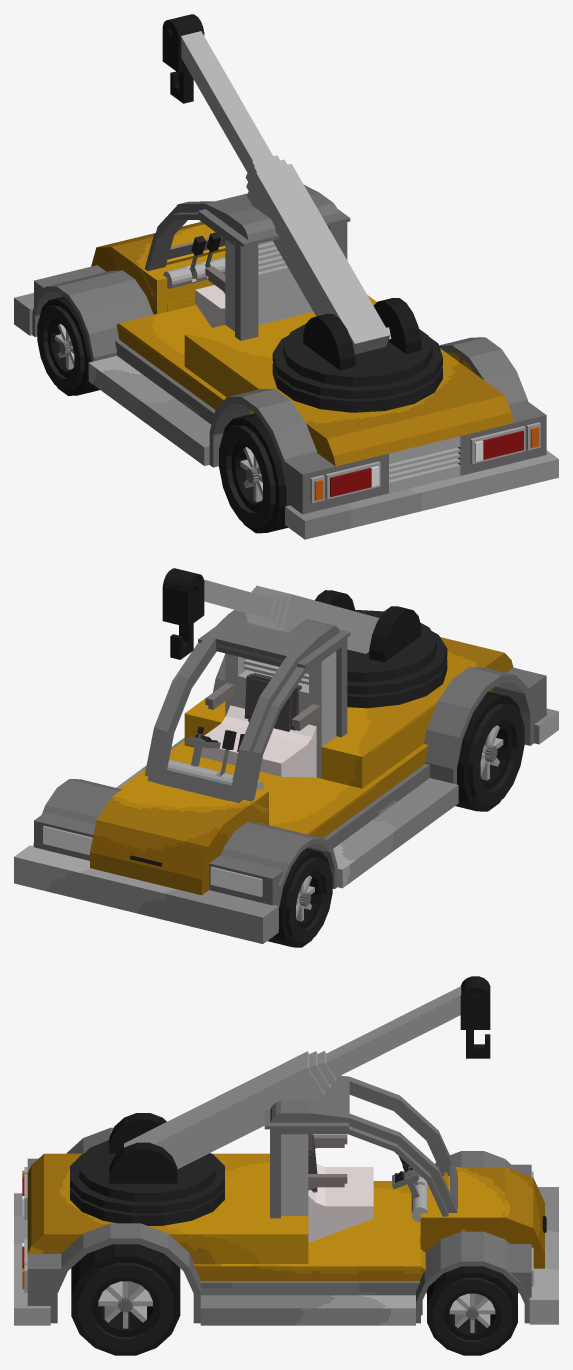
Rendered from forklift.geo.gltf.
The picture shows the model from 3 angles, top to bottom: view 1: azimuth 30°, elevation 25°; view 2: azimuth 150°, elevation 25°; view 3: azimuth 270°, elevation 25°; orthographic projection. The views are drawn at different scales.
Parts seen in each view (by area): view 1: cube (×33), hexadecagon (×16); view 2: cube (×49), hexadecagon (×14); view 3: cube (×40), hexadecagon (×15).
Boxes of the visible parts, box(x1,y1,x2,y2) form: cube (×33): box(14, 27, 558, 539); hexadecagon (×16): box(68, 279, 527, 461); cube (×49): box(14, 579, 558, 943); hexadecagon (×14): box(46, 610, 531, 866); cube (×40): box(14, 986, 558, 1325); hexadecagon (×15): box(62, 1140, 215, 1295).
Size of the model in its own units: 2.89 by 3.72 by 5.78.
Materials: 1 (1 with a texture image).
